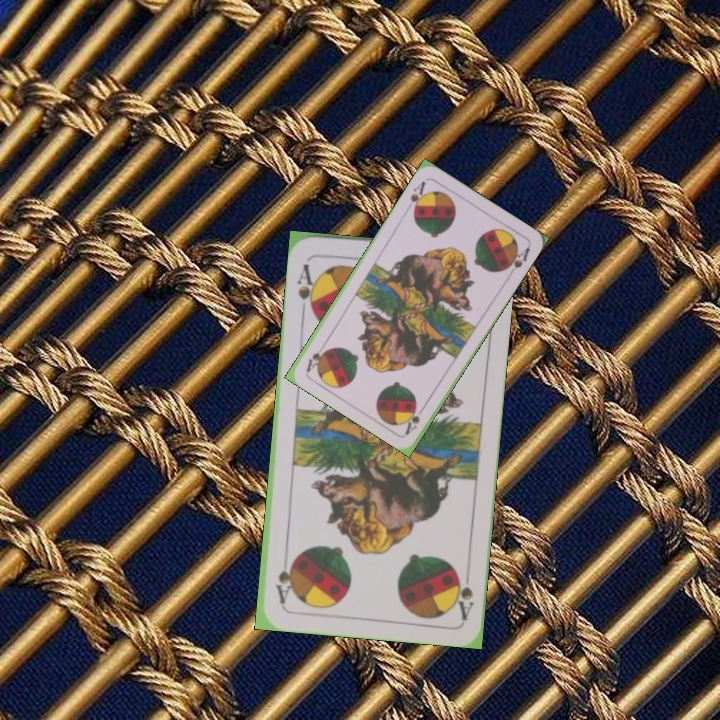SA: (293, 260, 320, 317), (450, 562, 476, 621), (401, 401, 429, 437), (406, 177, 429, 216)
